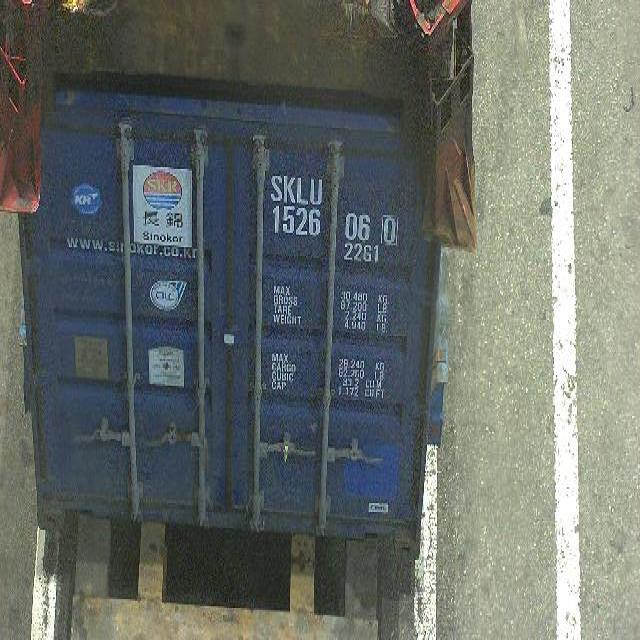ISO: (342, 242, 382, 269)
container_number: (270, 175, 402, 248)
